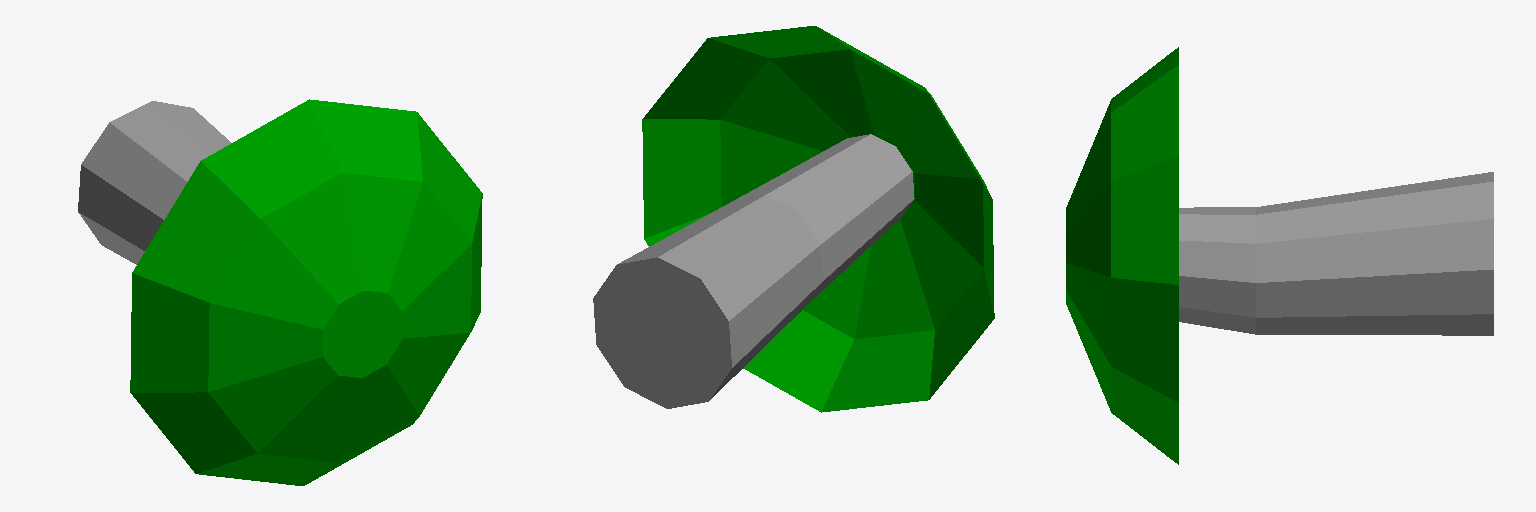
File: mushroom3.obj
The picture shows the model from 3 angles: view 1: azimuth 30°, elevation 25°; view 2: azimuth 150°, elevation 25°; view 3: azimuth 270°, elevation 25°; orthographic projection.
Parts seen in each view (by area): view 1: Cylinder.006; view 2: Cylinder.006; view 3: Cylinder.006.
Boxes of the visible parts, x1=… form: Cylinder.006: x1=78, y1=99, x2=482, y2=485; Cylinder.006: x1=593, y1=26, x2=994, y2=412; Cylinder.006: x1=1066, y1=47, x2=1493, y2=464.
Bounding box in the file's own units: 18.51 × 19.36 × 19.48.